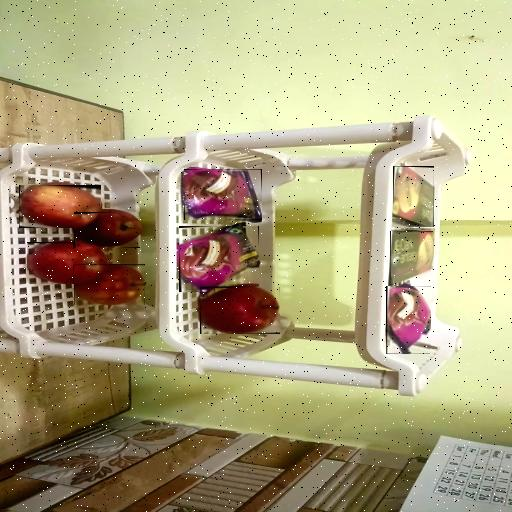Apple: (200, 287, 280, 334), (19, 185, 101, 228), (28, 242, 110, 284), (75, 265, 145, 305), (74, 212, 140, 248)
Choco Fills: (393, 166, 434, 227), (390, 231, 433, 285)
Choco Pie: (179, 226, 259, 292), (184, 170, 262, 222), (386, 286, 431, 354)
